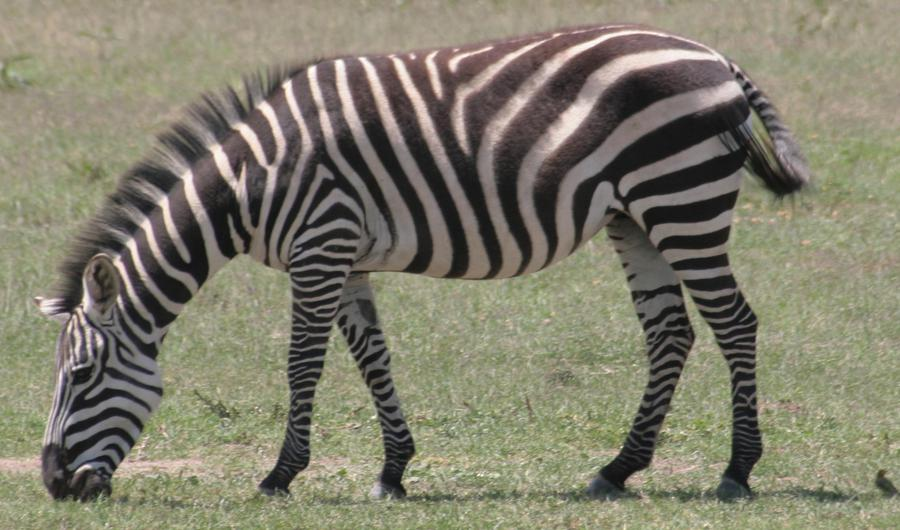zebra_plains: (254, 39, 724, 260)
